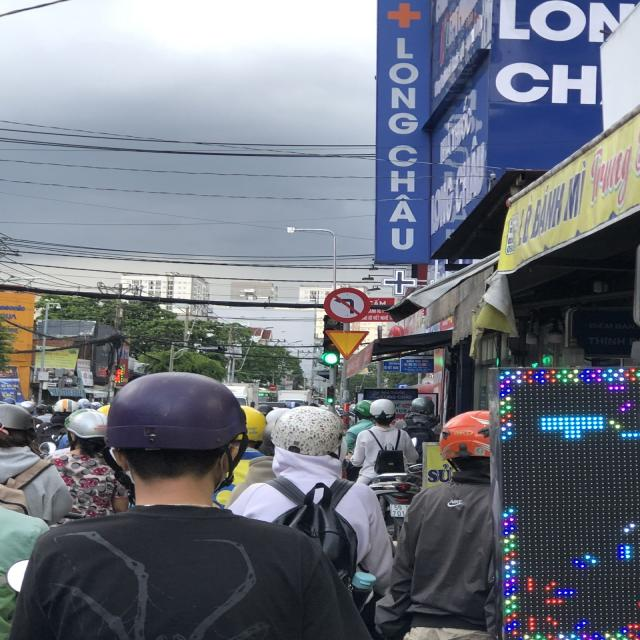Bien bao cam re trai: (321, 282, 374, 327)
Bien bao giao nhau voi duong uu tien: (320, 327, 375, 361)
